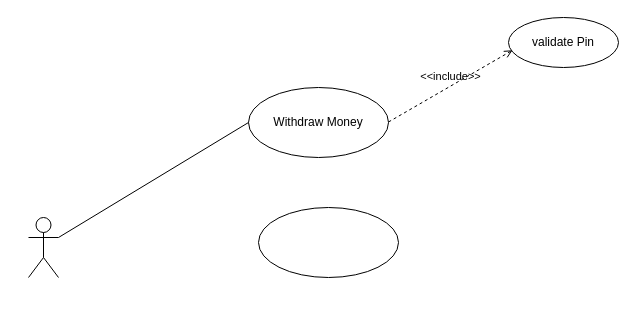
Some shapes in this 636 by 316 pixel diagram are drawn without their labels. Here are the shapes that lost their labels. From the top down, the centre of each, then its label:
At pixel 43 247: "Customer".
At pixel 328 242: "Deposit Money".
